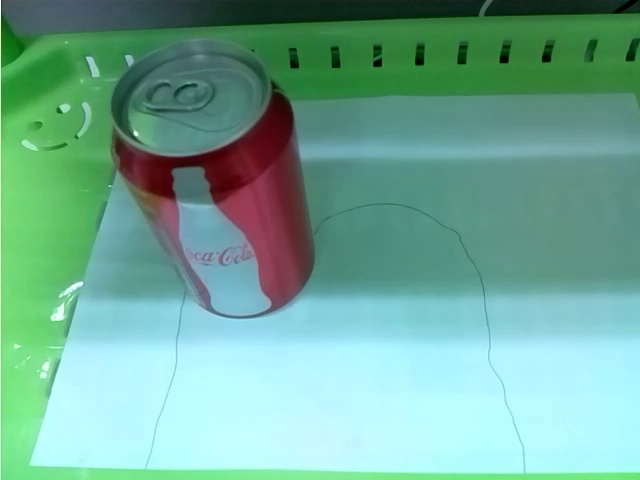cocacola: (104, 38, 318, 318)
